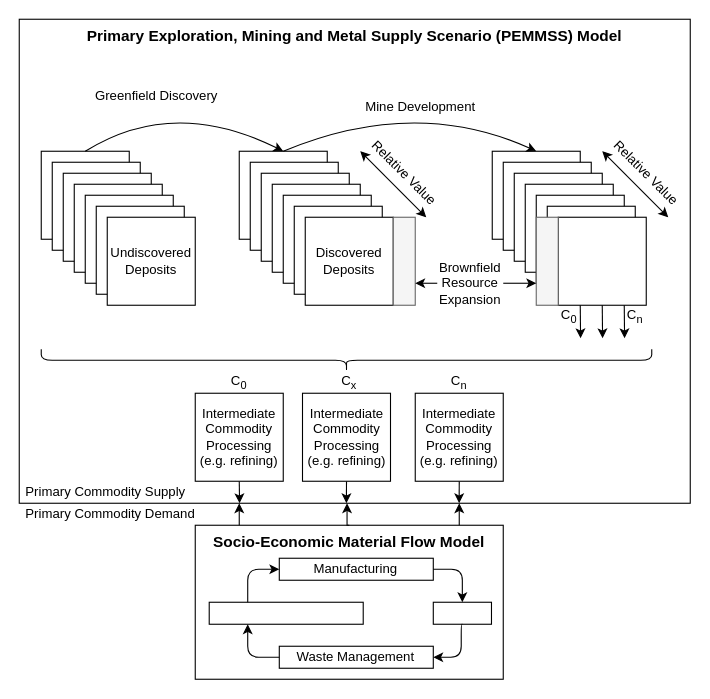
This 710x699 diagram has some shape labels left out. The shapes that lost their labels are listed below. From the top down, each one's box as (x1, y1, x2, y2) in pixels, then its label:
(557, 216, 646, 305): Mining and Mineral Processing Operations
(208, 601, 363, 624): Material Fabrication
(432, 601, 491, 624): Use
